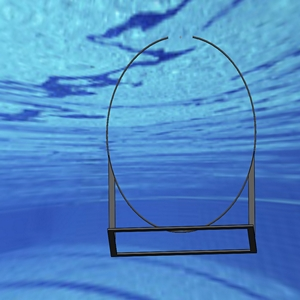circle: (104, 32, 259, 261)
